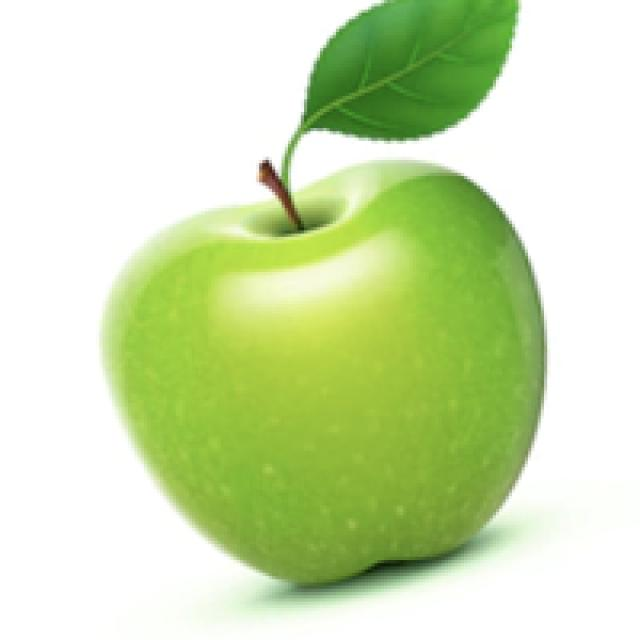apple: (93, 0, 550, 622)
